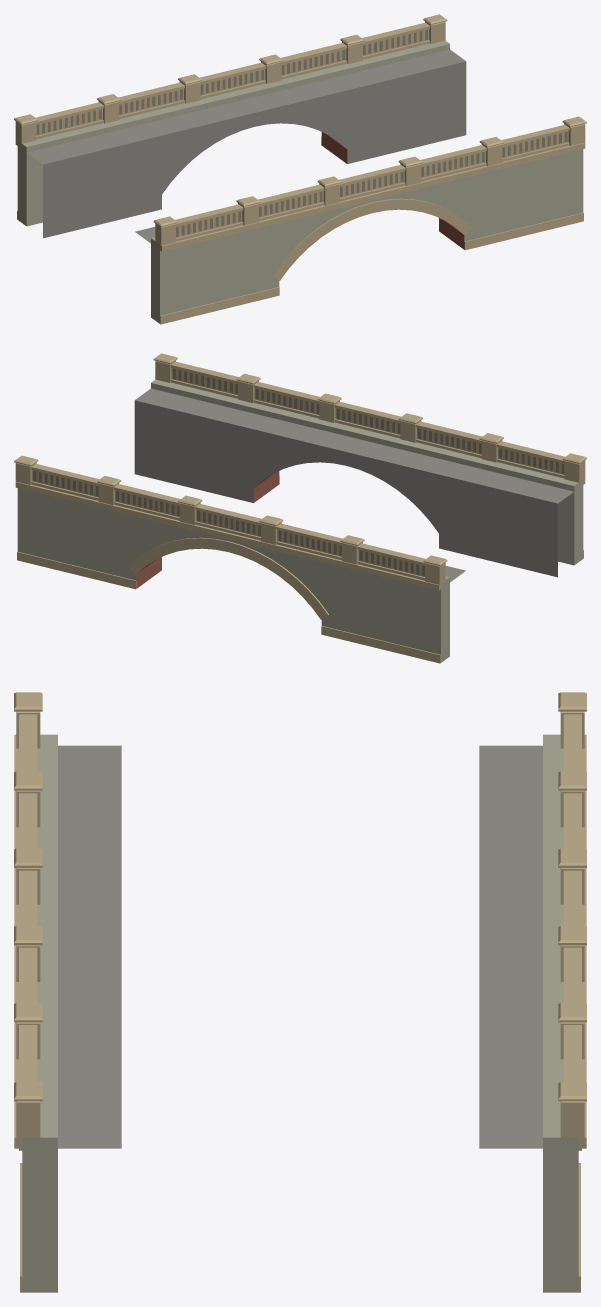
File: nyc-glade-arch.glb
3 renders of one model, top to bottom at view 1: azimuth 30°, elevation 25°; view 2: azimuth 150°, elevation 25°; view 3: azimuth 270°, elevation 25°, orthographic. The views are drawn at different scales.
Visible parts, largest first — view 1: Glade Arch; view 2: Glade Arch; view 3: Glade Arch.
Boxes of the visible parts, x1,y1,x2,y2 form: Glade Arch: (14,14,586,324); Glade Arch: (14,353,586,663); Glade Arch: (14,692,586,1292).
Size of the model in its own units: 24.16 by 5.47 by 14.42.
